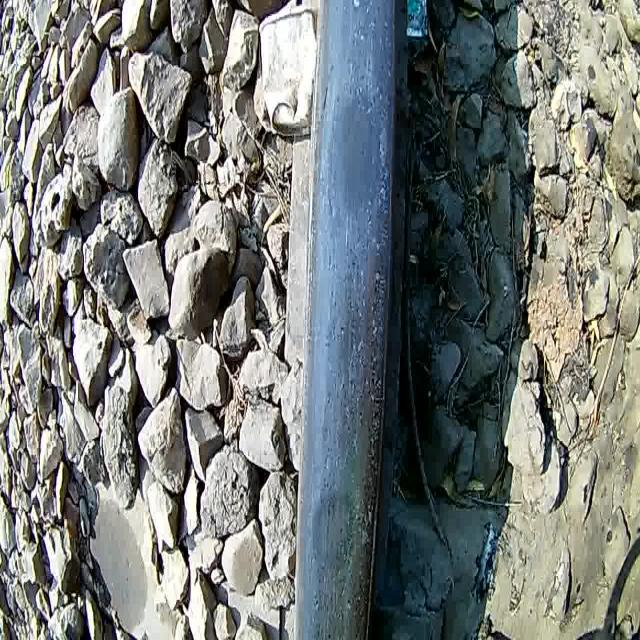Squats: (278, 0, 414, 640)
